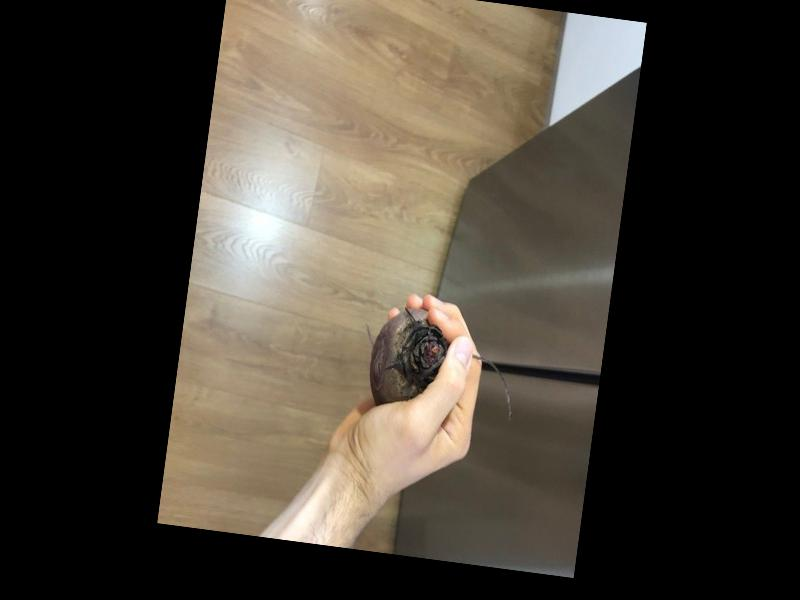Beet: (365, 302, 524, 423)
